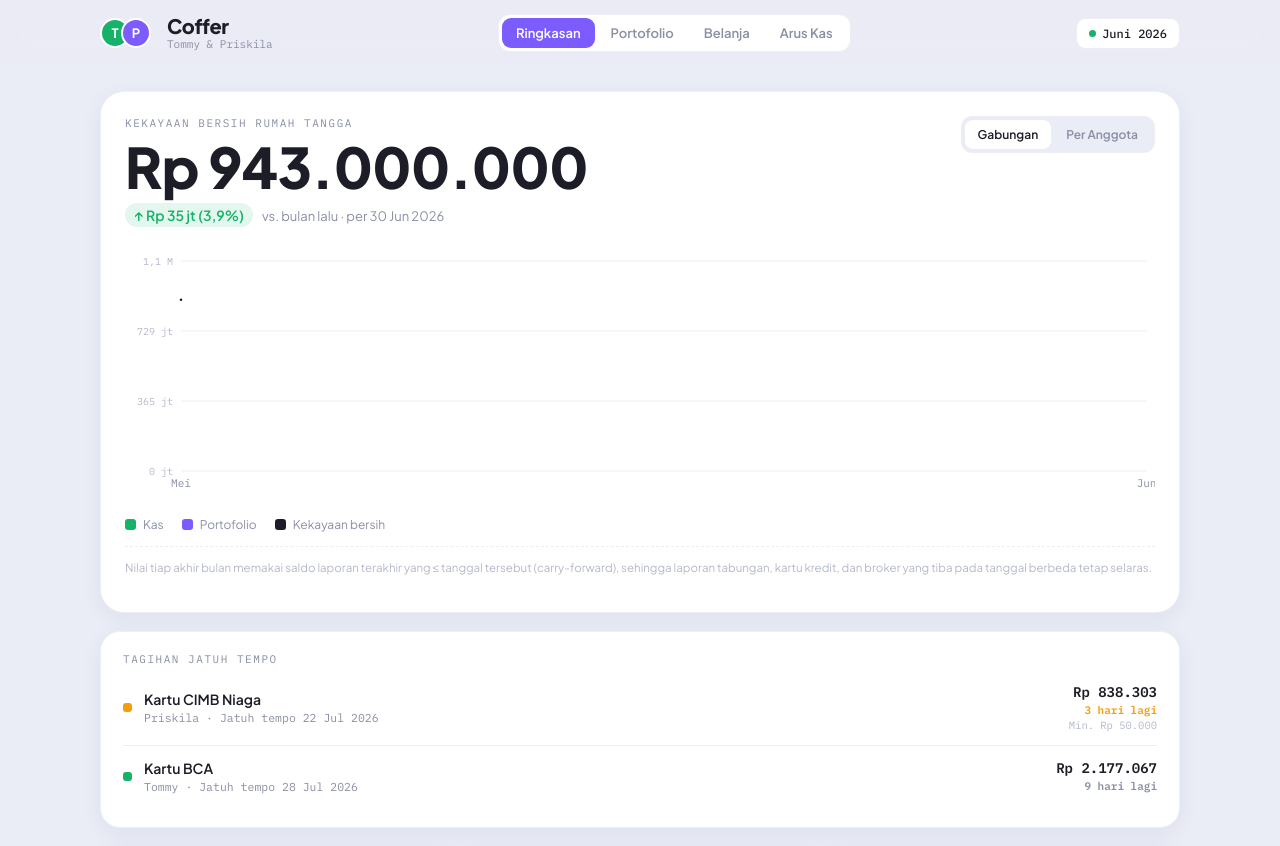
App / Ringkasan › shows the routine-spend hero, category medians, and review queue on Belanja
Expected: the heading "Rp 943.000.000" is shown, [125, 138, 588, 195]
Click the button "Belanja". click: click(727, 33)
box: [690, 18, 764, 48]
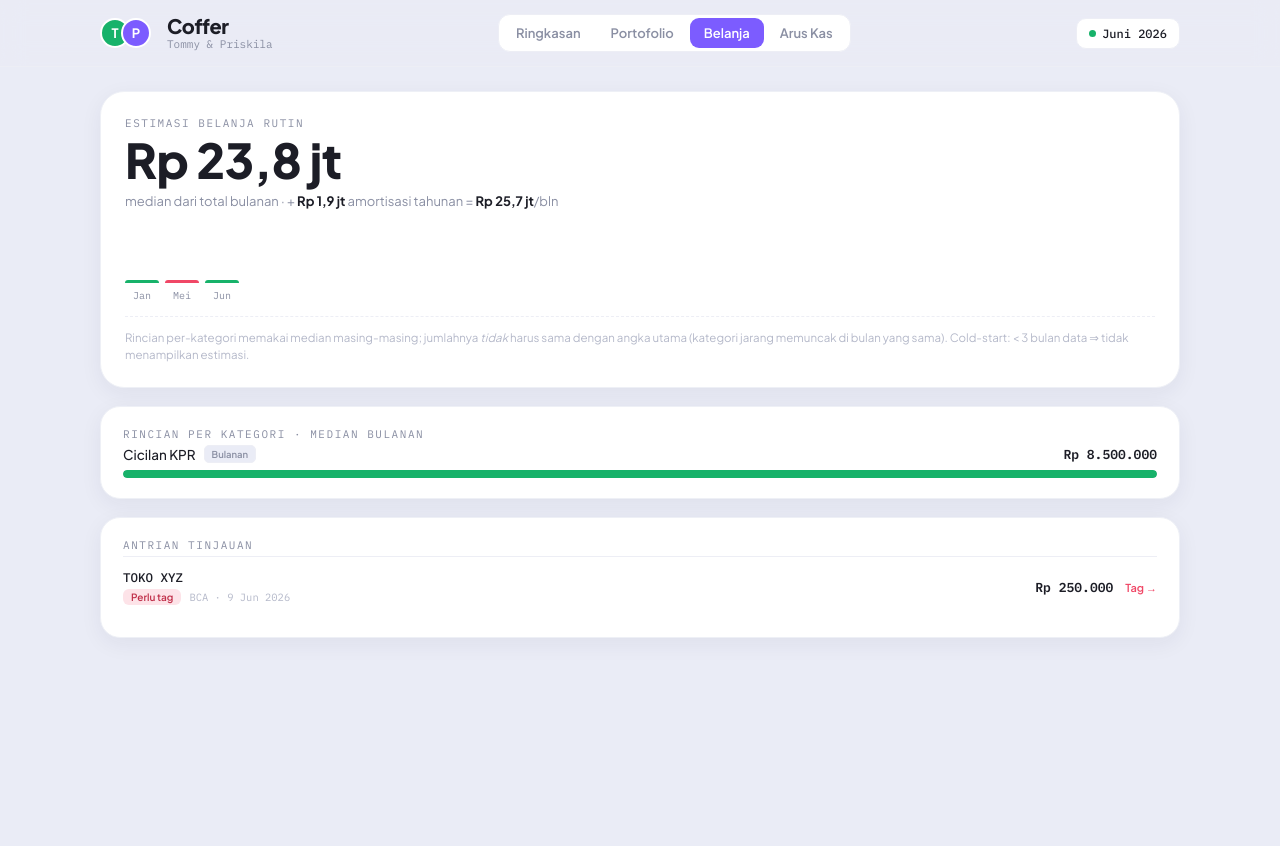
Now the text "Estimasi Belanja Rutin" is shown, box [125, 116, 304, 130]
Now the text "Cicilan KPR" is shown, box [123, 446, 196, 462]
Now the text "TOKO XYZ" is shown, box [123, 569, 183, 585]
